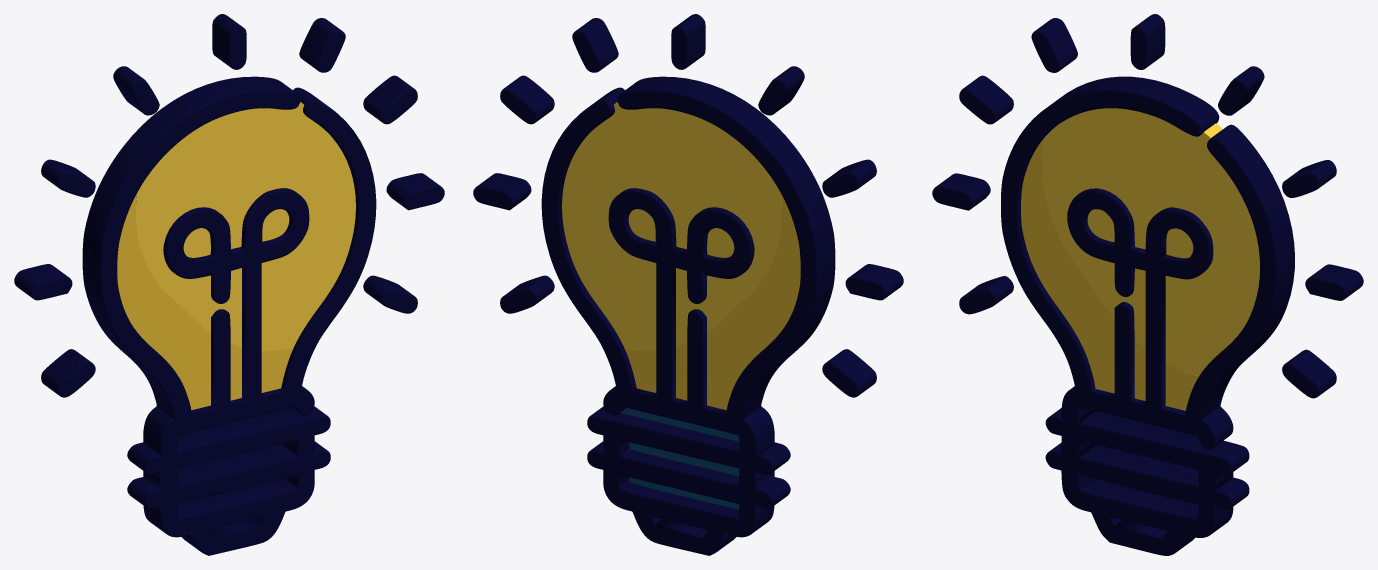
Rendered from lamp.gltf.
3 renders of one model, left to right at view 1: azimuth 30°, elevation 25°; view 2: azimuth 150°, elevation 25°; view 3: azimuth 330°, elevation 25°, orthographic.
Parts seen in each view (by area): view 1: path137, path149, path147; view 2: path137, path149, path147, path141; view 3: path137, path149, path147.
Boxes of the visible parts, left/top/right/bottom form: path137: left=14, top=14, right=444, bottom=555; path149: left=136, top=102, right=355, bottom=350; path147: left=117, top=194, right=293, bottom=410; path137: left=473, top=14, right=903, bottom=555; path149: left=562, top=102, right=781, bottom=350; path147: left=624, top=194, right=800, bottom=410; path141: left=620, top=408, right=739, bottom=509; path137: left=932, top=14, right=1363, bottom=555; path149: left=1042, top=108, right=1259, bottom=375; path147: left=1021, top=138, right=1198, bottom=410.
Size of the model in its own units: 10.44 by 12.61 by 0.8059.
